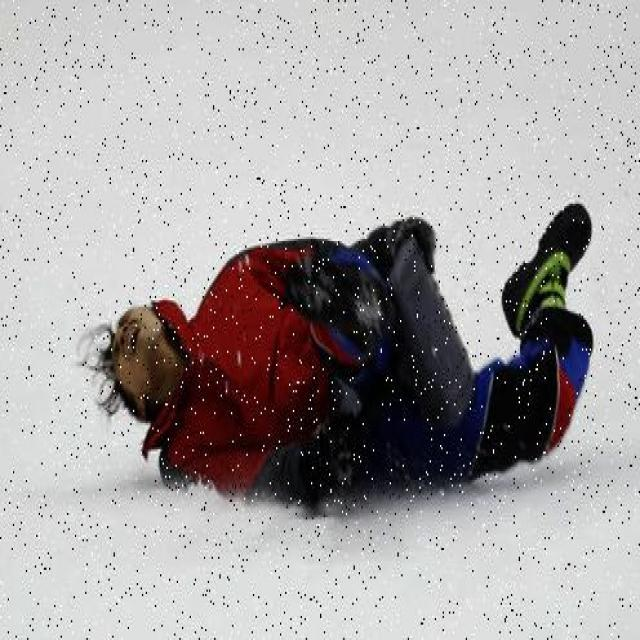fall: (91, 190, 588, 530)
